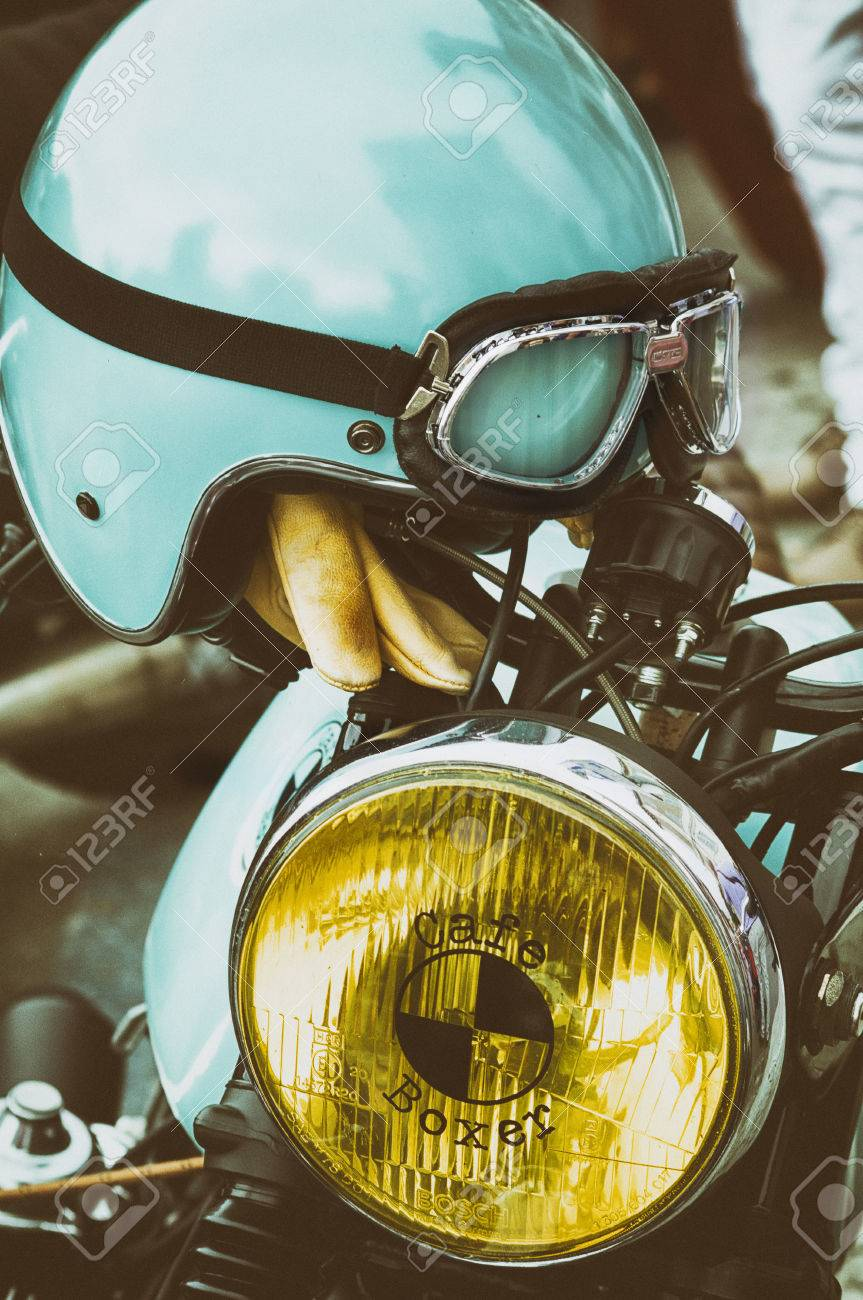with_helmet: (4, 3, 746, 655)
